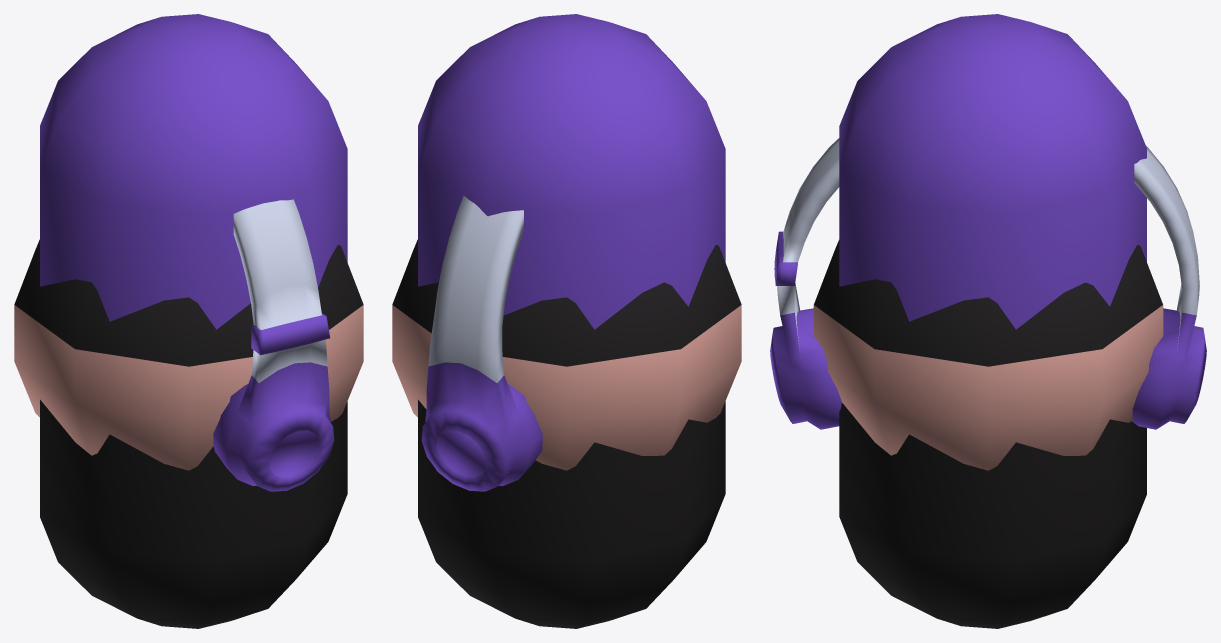
File: character8.glb
The picture shows the model from 3 angles, left to right: view 1: azimuth 30°, elevation 25°; view 2: azimuth 150°, elevation 25°; view 3: azimuth 270°, elevation 25°; orthographic projection.
Parts seen in each view (by area): view 1: body, head; view 2: body, head; view 3: body, head.
Boxes of the visible parts, x1,y1,x2,y2 form: body: (40, 14, 347, 628); head: (14, 199, 363, 491); body: (418, 14, 725, 628); head: (392, 195, 741, 491); body: (839, 14, 1146, 628); head: (770, 138, 1206, 470).
Bounding box in the file's own units: 1.63 × 3.06 × 2.07.
